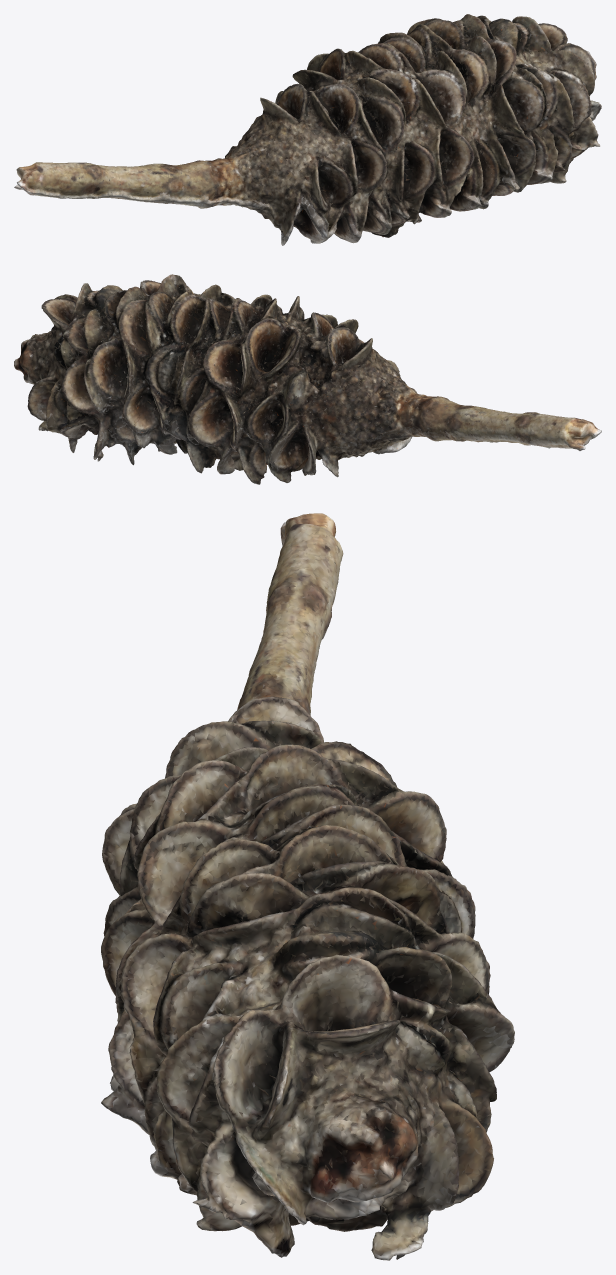
The picture shows the model from 3 angles, top to bottom: view 1: azimuth 30°, elevation 25°; view 2: azimuth 150°, elevation 25°; view 3: azimuth 270°, elevation 25°; orthographic projection. The views are drawn at different scales.
Visible parts, largest first — view 1: Object_3, Object_2, Object_4; view 2: Object_3, Object_4, Object_2; view 3: Object_3, Object_2, Object_4.
Boxes of the visible parts, left/top/right/bottom form: Object_3: left=17, top=14, right=601, bottom=245; Object_2: left=254, top=33, right=583, bottom=235; Object_4: left=14, top=16, right=596, bottom=245; Object_3: left=14, top=274, right=601, bottom=483; Object_4: left=21, top=275, right=601, bottom=484; Object_2: left=16, top=276, right=383, bottom=461; Object_3: left=102, top=514, right=514, bottom=1225; Object_2: left=101, top=696, right=512, bottom=1260; Object_4: left=101, top=513, right=510, bottom=1140.
Size of the model in its own units: 1.38 by 0.4056 by 0.4396.
1 material, 1 textured.
